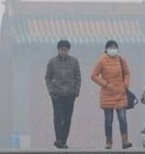person: (90, 39, 139, 149), (45, 39, 83, 149)
